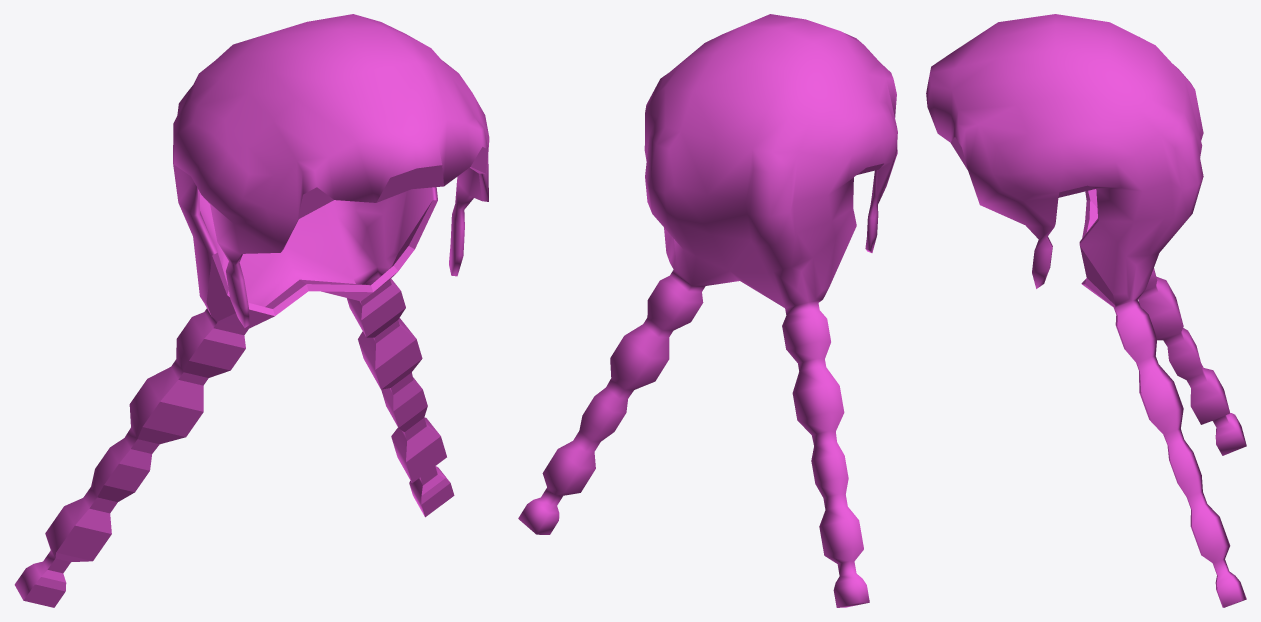
The model's file is character hair 17.fbx.
3 views of the same model, side by side, from view 1: azimuth 30°, elevation 25°; view 2: azimuth 150°, elevation 25°; view 3: azimuth 270°, elevation 25° (orthographic). The views are drawn at different scales.
Parts seen in each view (by area): view 1: hair17; view 2: hair17; view 3: hair17.
Part boxes in pixels (x1,y1,x2,y2): hair17: [14, 14, 489, 607]; hair17: [518, 14, 897, 607]; hair17: [926, 14, 1246, 607].
Bounding box in the file's own units: 0.6861 × 0.9223 × 0.5289.
